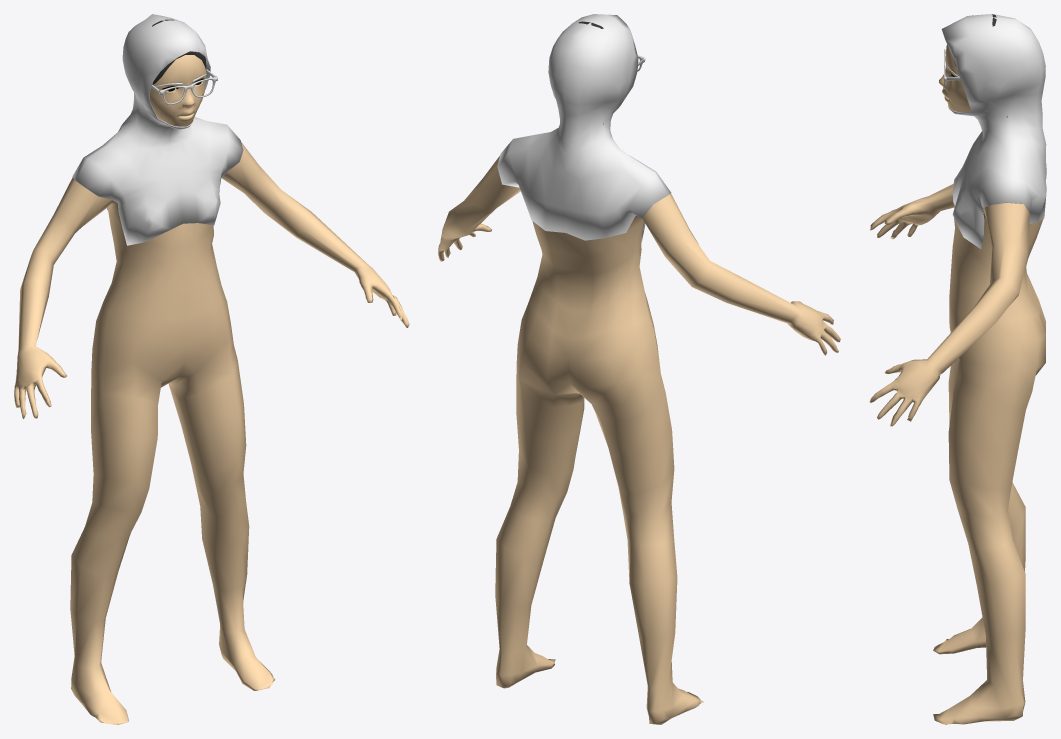
Rendered from Human_Females_1.fbx.
3 views of the same model, side by side, from view 1: azimuth 30°, elevation 25°; view 2: azimuth 150°, elevation 25°; view 3: azimuth 270°, elevation 25° (orthographic).
Visible parts, largest first — view 1: female1605.003, female1605.004; view 2: female1605.003, female1605.004; view 3: female1605.003, female1605.004.
Part boxes in pixels (bbox=[...]): female1605.003: bbox=[14, 55, 409, 724]; female1605.004: bbox=[72, 14, 243, 245]; female1605.003: bbox=[438, 156, 840, 724]; female1605.004: bbox=[497, 14, 671, 242]; female1605.003: bbox=[869, 44, 1045, 724]; female1605.004: bbox=[941, 14, 1046, 248].
Bounding box in the file's own units: 76.25 × 126 × 30.35.
